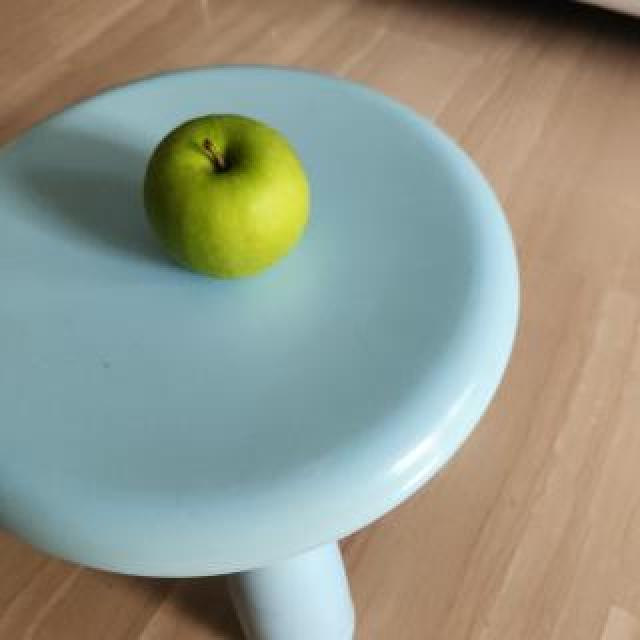Fresh Apple: (137, 118, 306, 267)
